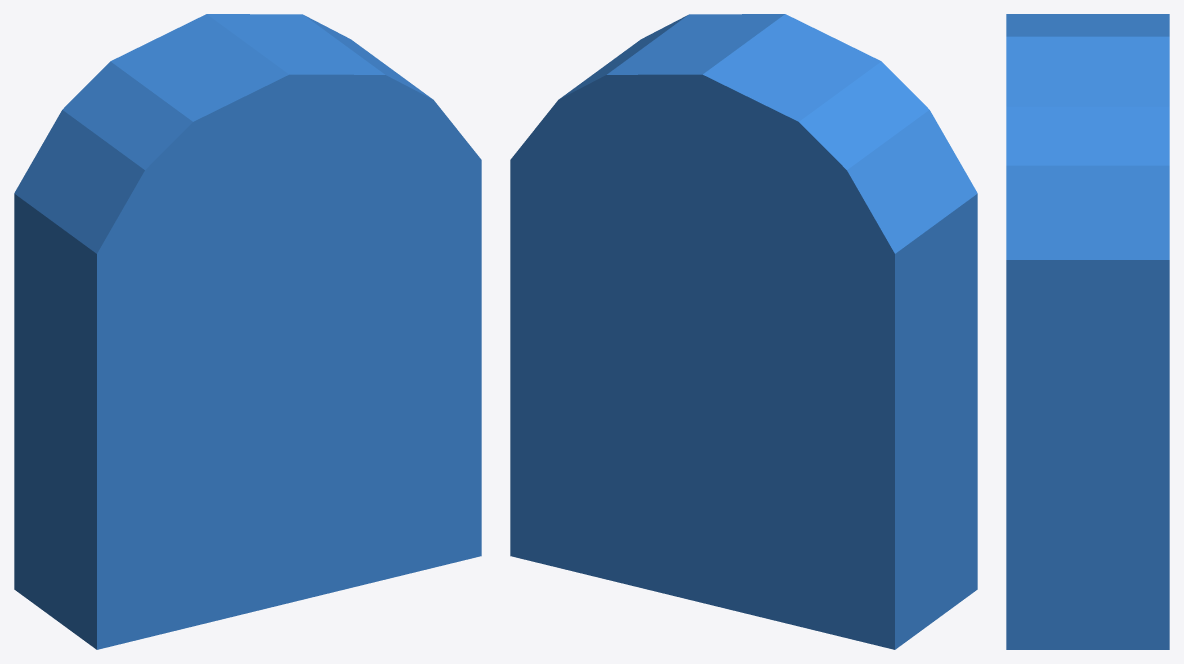
File: Collision_Window_Wide_Round1.fbx
3 renders of one model, left to right at view 1: azimuth 30°, elevation 25°; view 2: azimuth 150°, elevation 25°; view 3: azimuth 270°, elevation 25°, orthographic.
Visible parts, largest first — view 1: UCX_Window_Wide_Round1_1; view 2: UCX_Window_Wide_Round1_1; view 3: UCX_Window_Wide_Round1_1.
Boxes of the visible parts, x1,y1,x2,y2 form: UCX_Window_Wide_Round1_1: (14,14,481,649); UCX_Window_Wide_Round1_1: (510,14,977,649); UCX_Window_Wide_Round1_1: (1006,14,1169,649).
Bounding box in the file's own units: 134 × 176 × 50.02.
